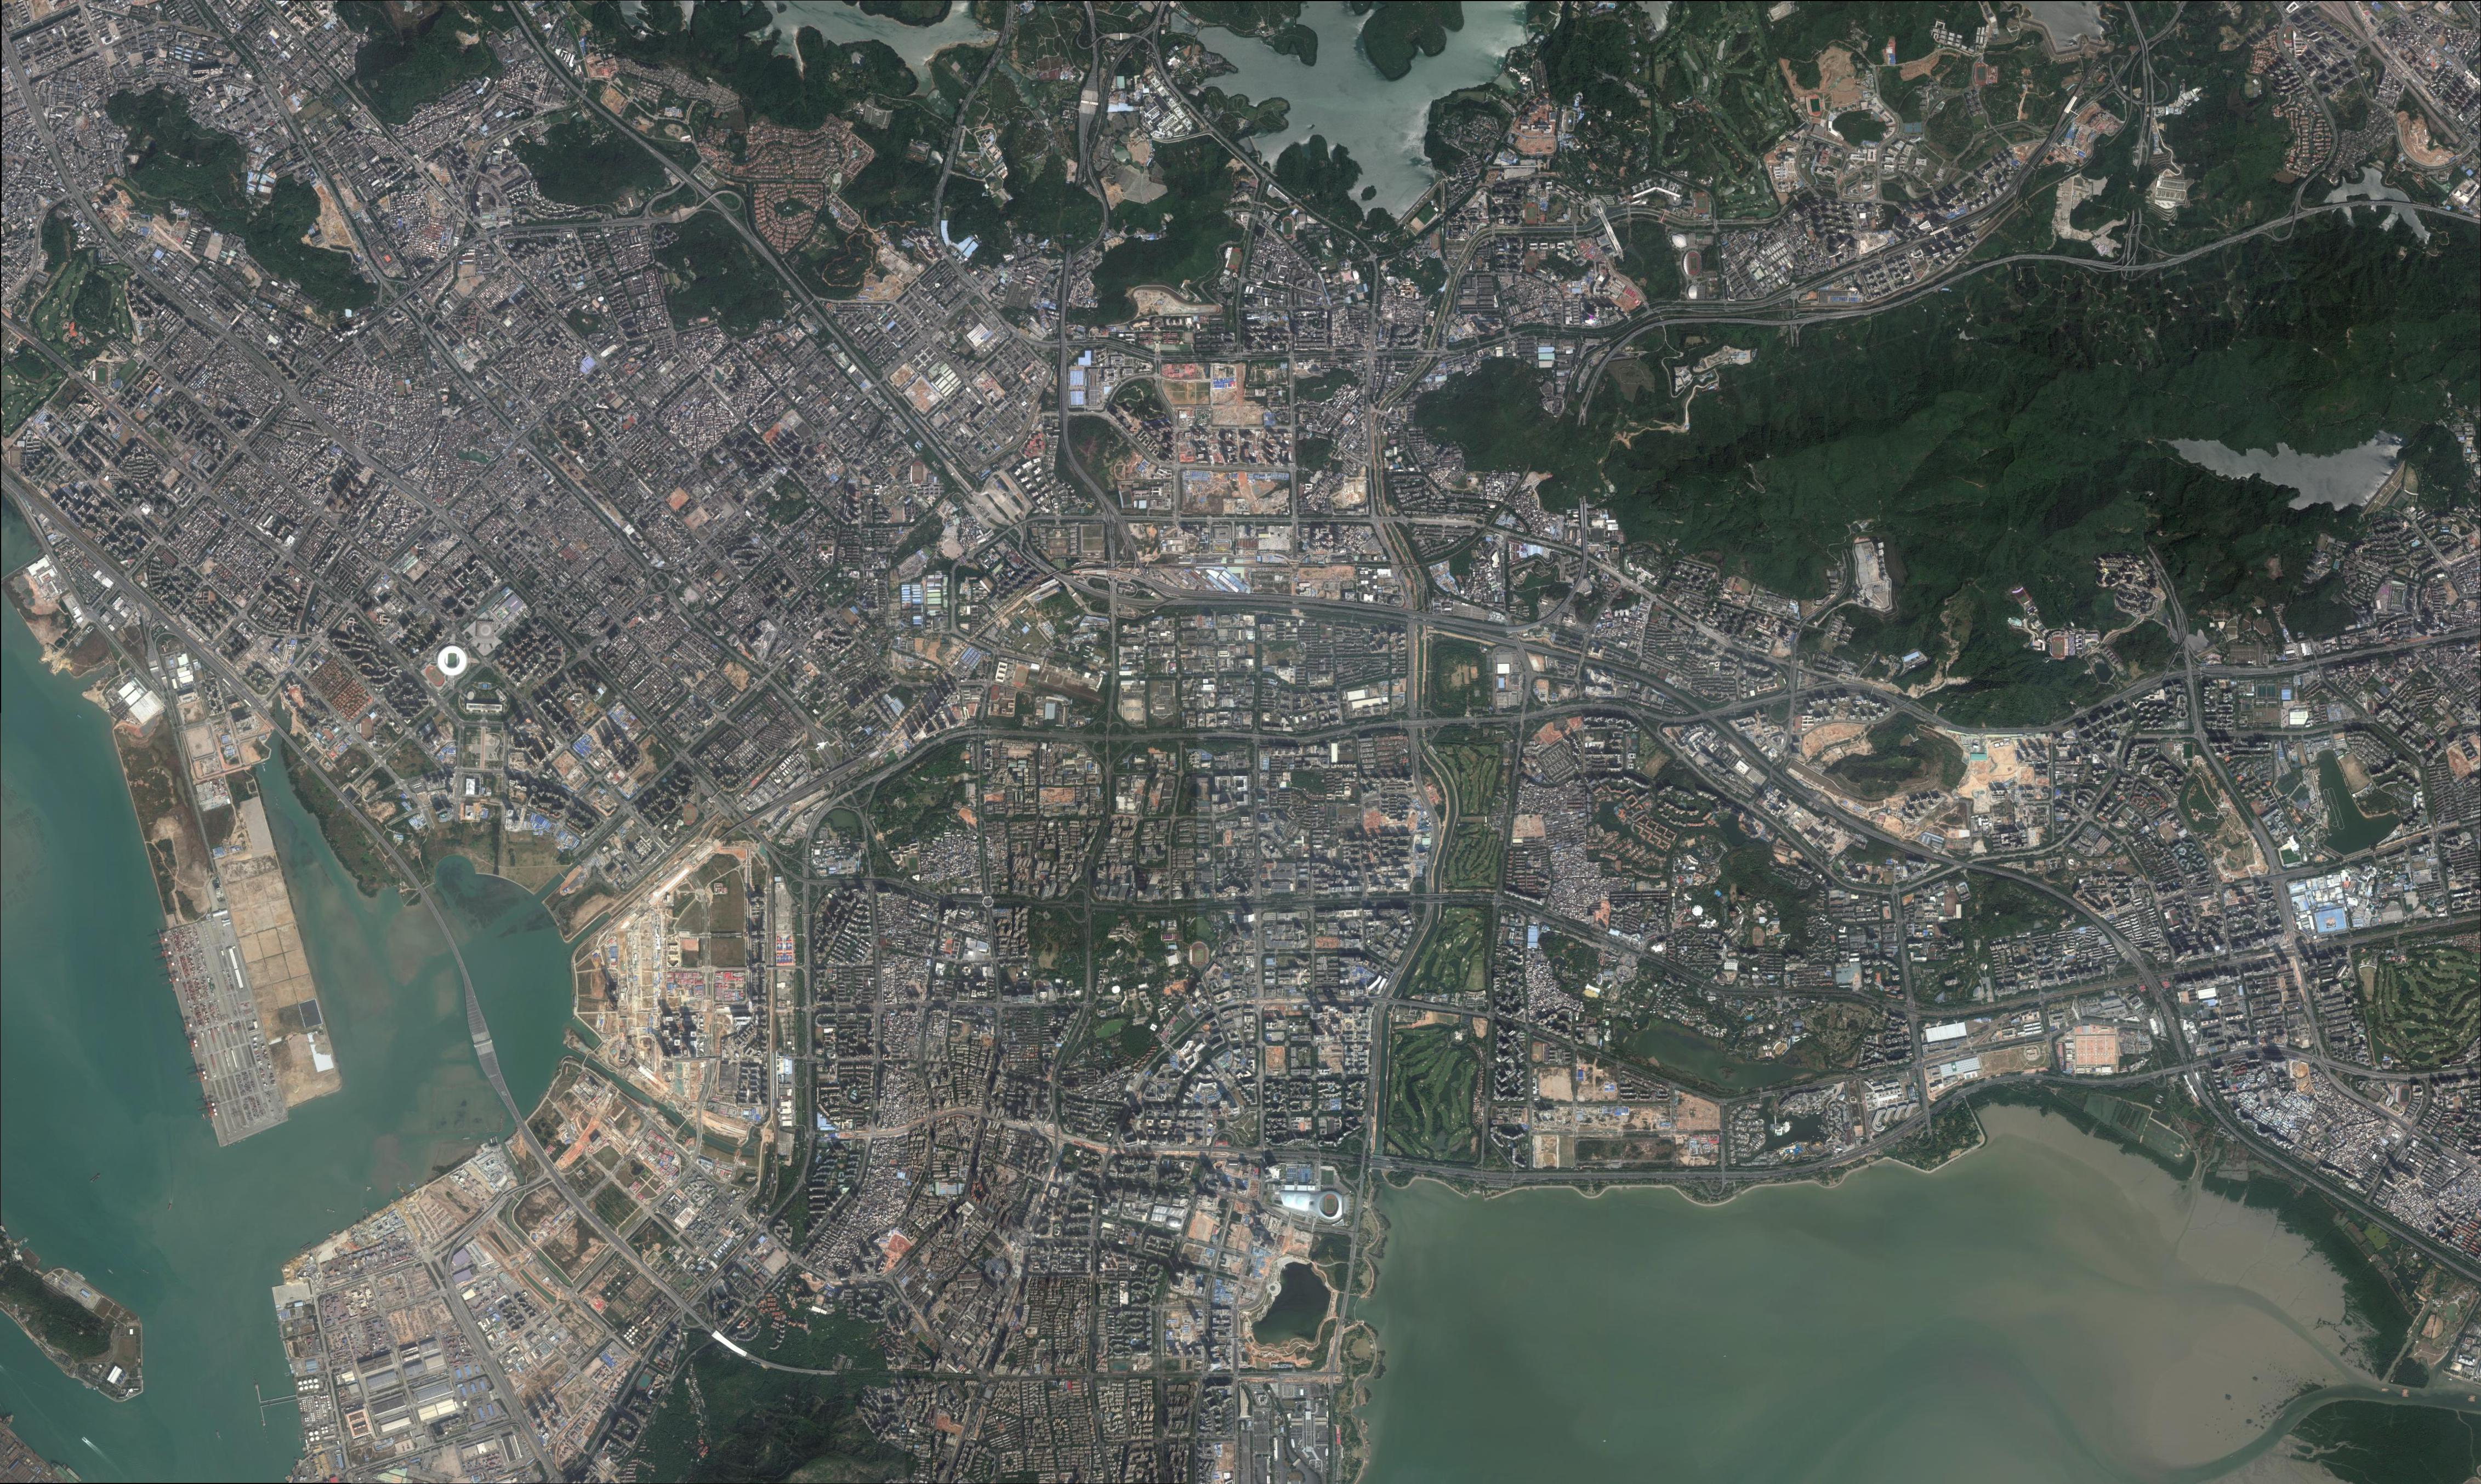harbor: (260, 1406, 267, 1426), (256, 1385, 262, 1403)
ship: (62, 1463, 83, 1482), (90, 1175, 101, 1182), (81, 1436, 88, 1443), (168, 1205, 171, 1210)
